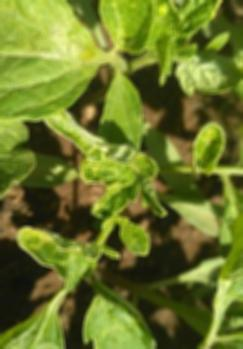Tomato leaf mosaic virus: (43, 111, 166, 220), (0, 0, 100, 122), (3, 221, 121, 279), (81, 74, 152, 168), (80, 273, 153, 349), (93, 0, 157, 58), (174, 48, 242, 99), (183, 117, 233, 178), (166, 0, 226, 39)
